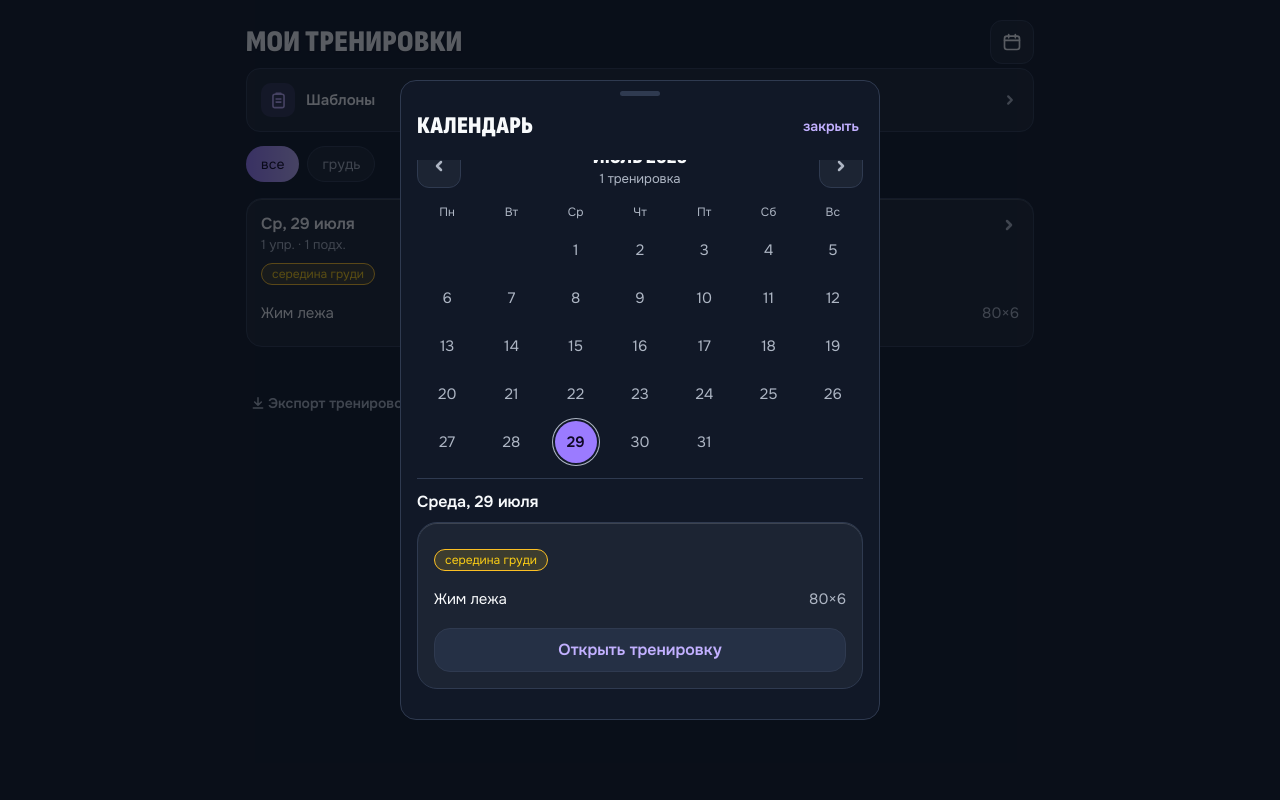
Test: HistoryScreen › пустой день в календаре честно говорит, что тренировок не было
This screenshot has width=1280, height=800.
(page scrolled)
Click the button "28". click: (511, 442)
box: [490,421,532,463]
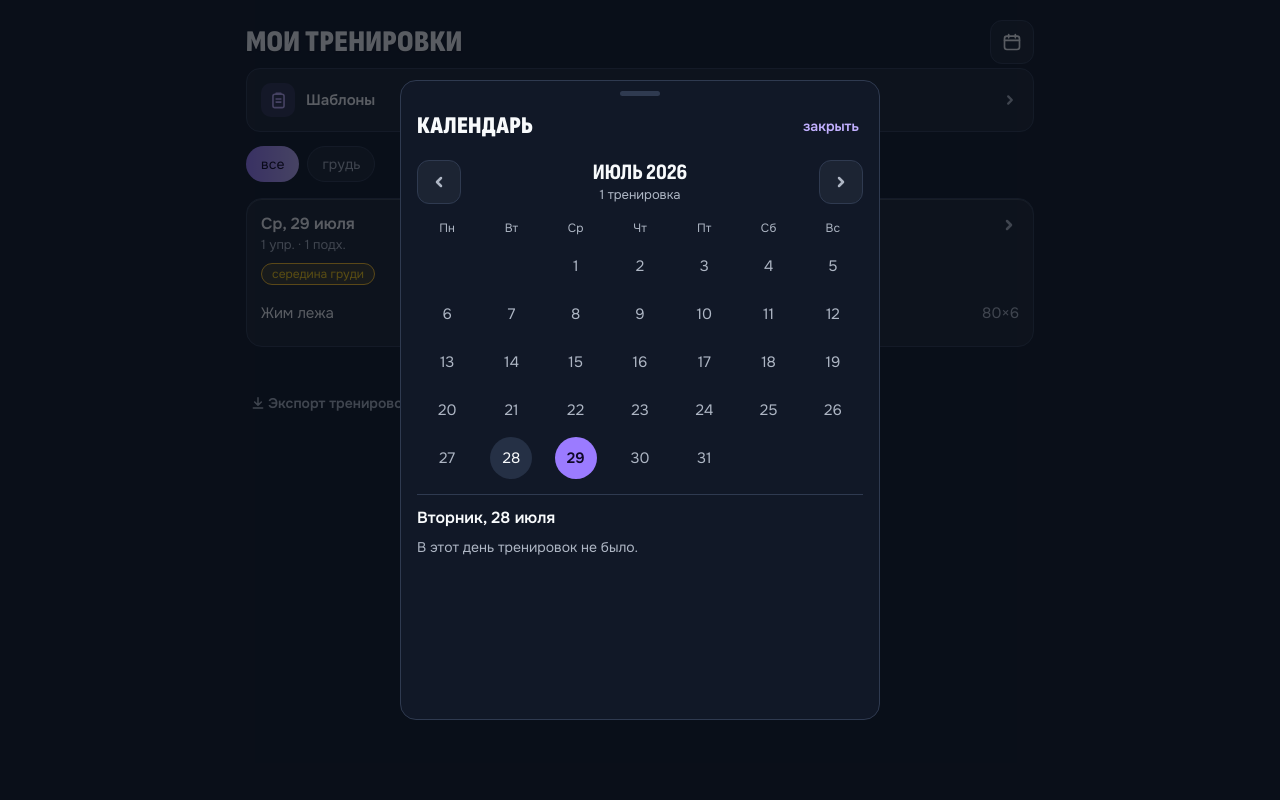
Now the dialog shows "В этот день тренировок не было.", box [417,538,638,556]
Click the button named "Предыдущий месяц". click: (439, 182)
box: [417,160,461,204]
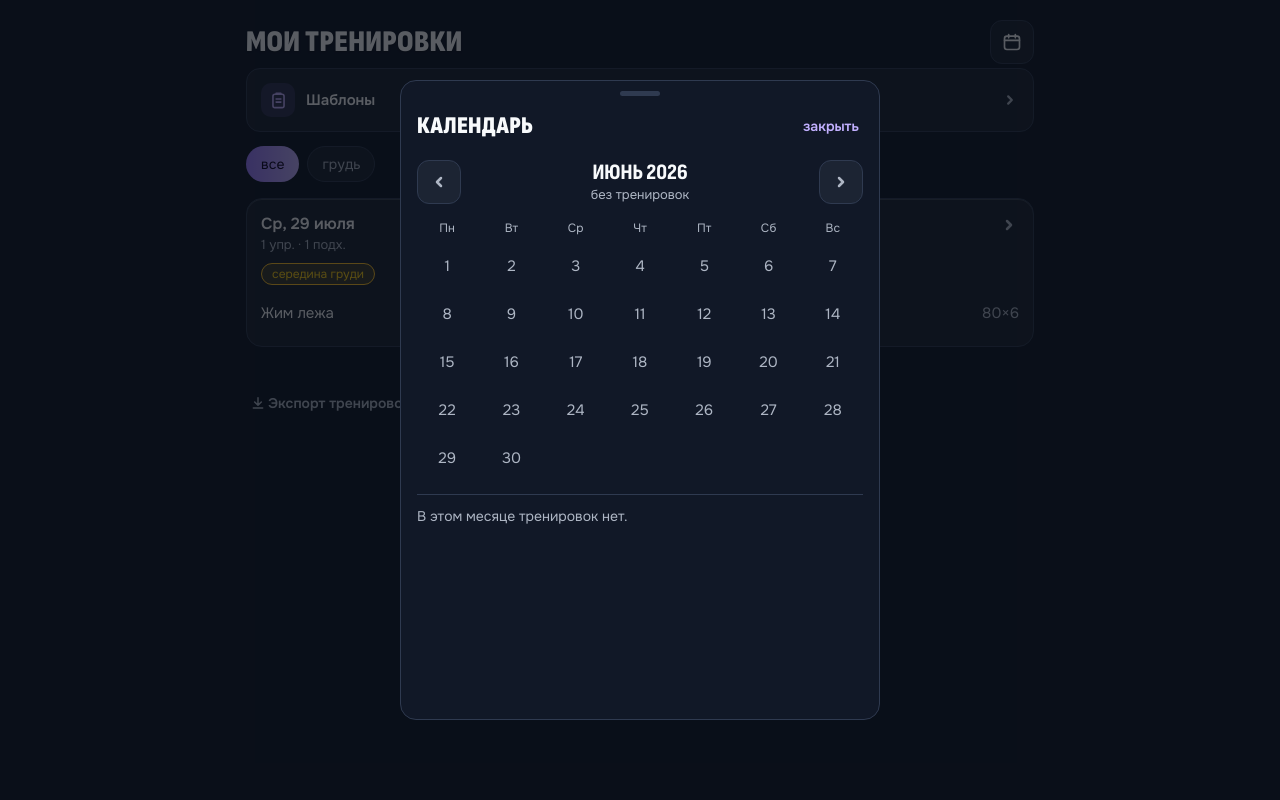
Now the dialog shows "Июнь 2026", box [592,158,688,186]
Now the dialog shows "без тренировок", box [591,186,689,202]
